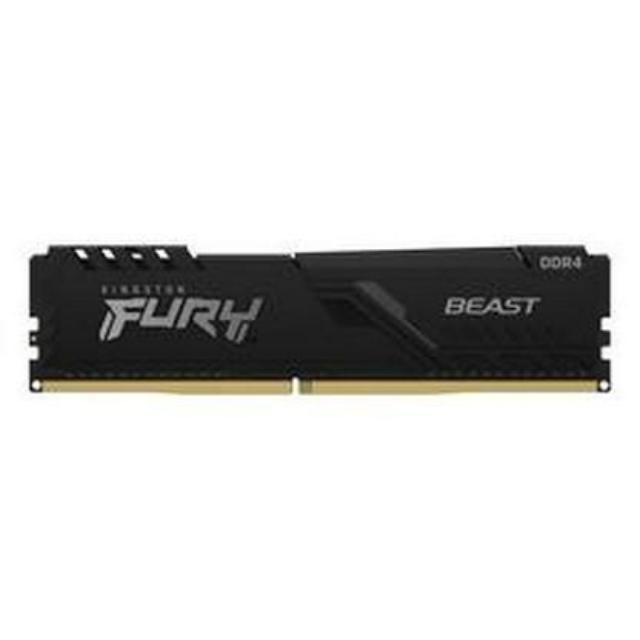RAM: (21, 233, 614, 407)
